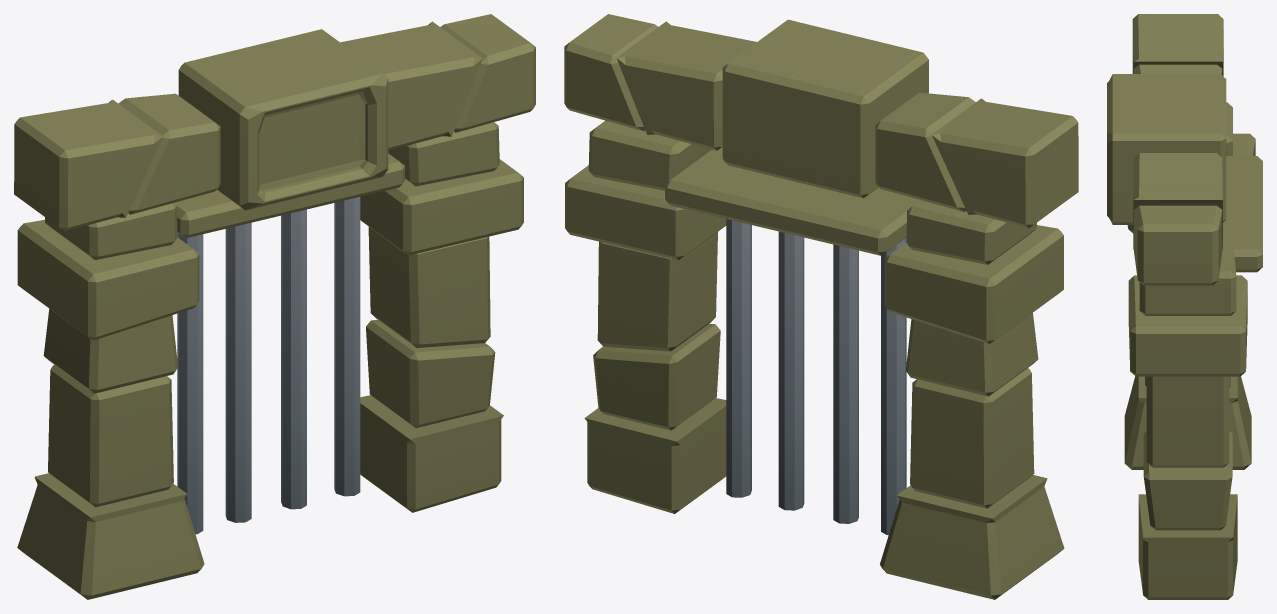
The model's file is Pueta.fbx.
3 renders of one model, left to right at view 1: azimuth 30°, elevation 25°; view 2: azimuth 150°, elevation 25°; view 3: azimuth 270°, elevation 25°, orthographic. The views are drawn at different scales.
Visible parts, largest first — view 1: Cube, Cube.002, Cube.004, Cube.003, Cube.001; view 2: Cube, Cube.003, Cube.002, Cube.004, Cube.001; view 3: Cube.
Boxes of the visible parts, bbox=[...] form: Cube: bbox=[14, 14, 535, 599]; Cube.002: bbox=[225, 222, 251, 522]; Cube.004: bbox=[334, 197, 360, 496]; Cube.003: bbox=[281, 209, 306, 509]; Cube.001: bbox=[177, 232, 203, 534]; Cube: bbox=[564, 14, 1078, 599]; Cube.003: bbox=[778, 231, 804, 510]; Cube.002: bbox=[833, 244, 858, 523]; Cube.004: bbox=[726, 219, 751, 497]; Cube.001: bbox=[881, 237, 906, 535]; Cube: bbox=[1107, 14, 1262, 599].
Size of the model in its own units: 990 by 916 by 314.
